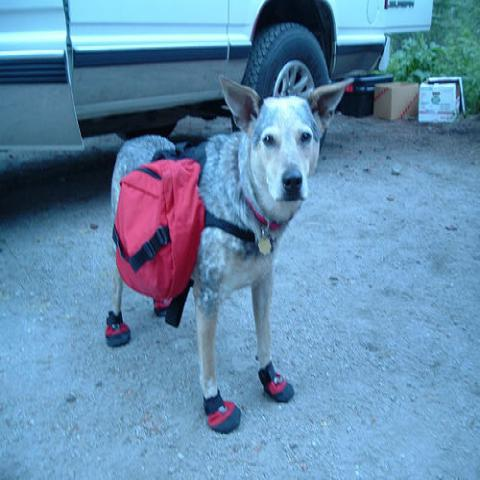car: (2, 1, 435, 149)
